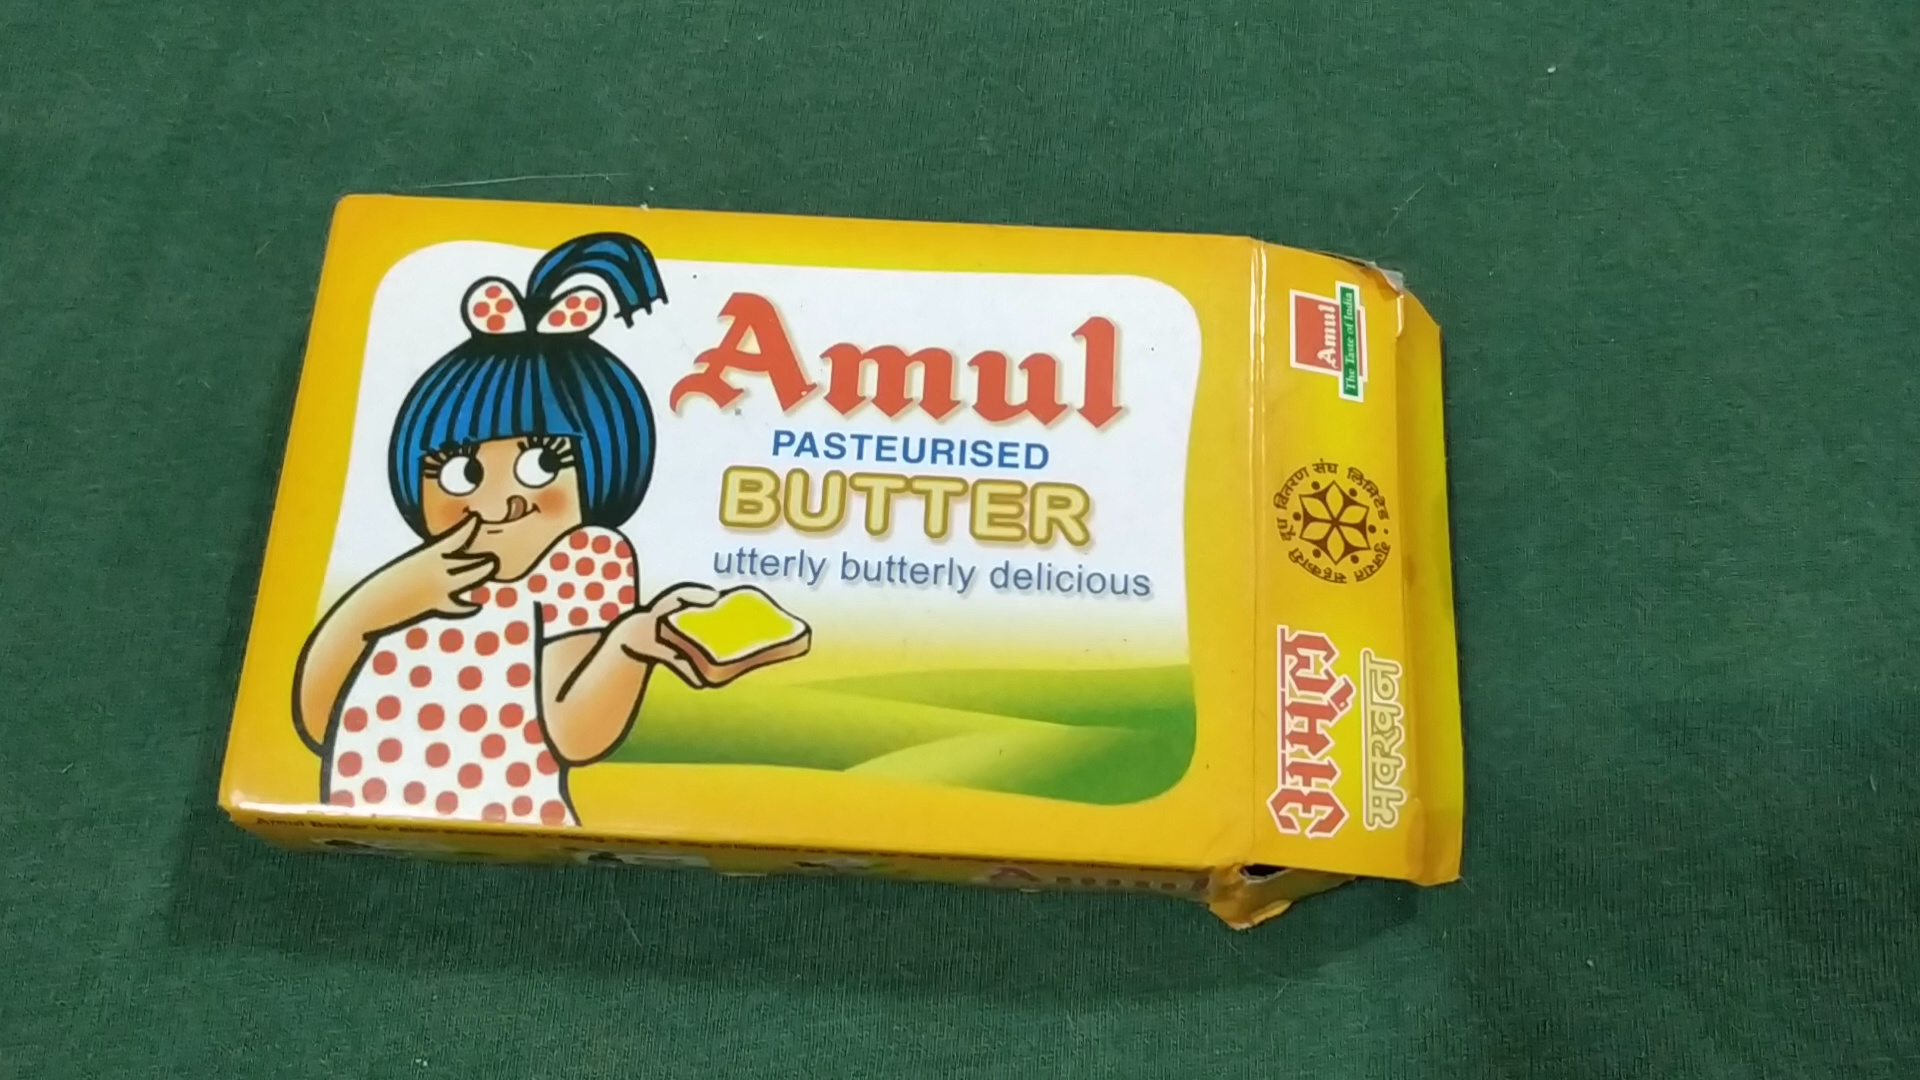amul_butter: (210, 194, 1457, 918)
